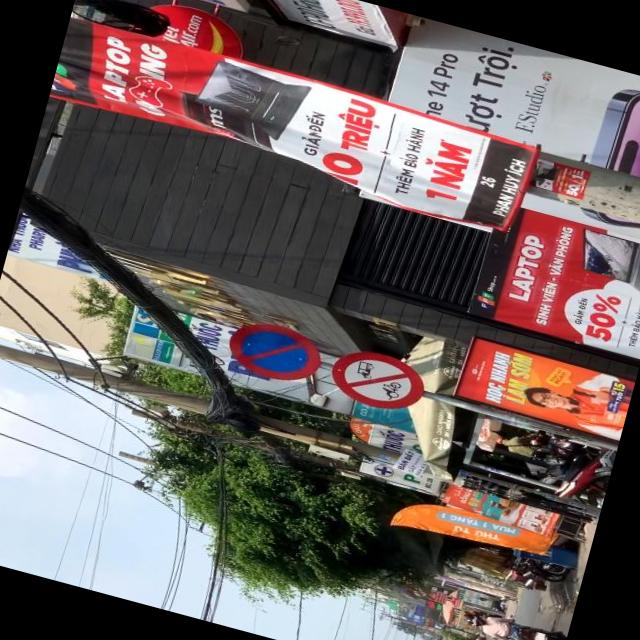P-131a: (222, 311, 324, 387)
